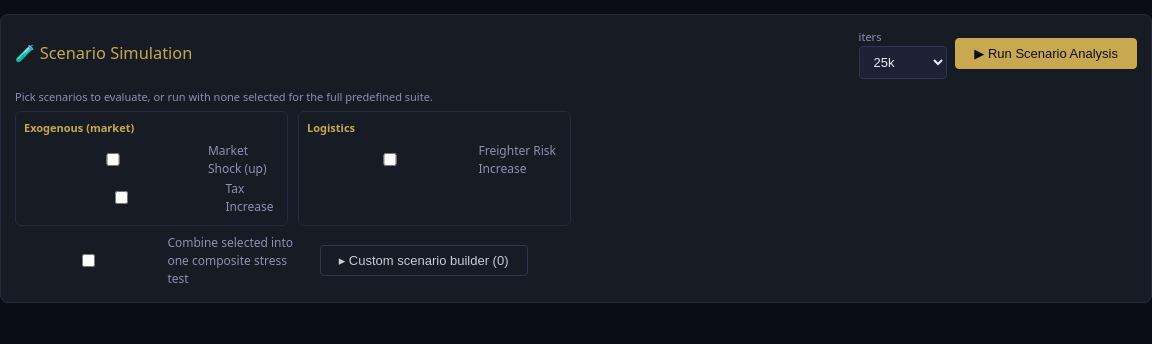
Test case: ScenarioPanel › surfaces a backend scenario error
Expected: the text "Market Shock (up)" is shown, [24,140,279,178]
What coordinates should you click on to do the following:
click the button "▶ Run Scenario Analysis"
I would click on:
 (1046, 54)
Its box is [955,38,1137,69].
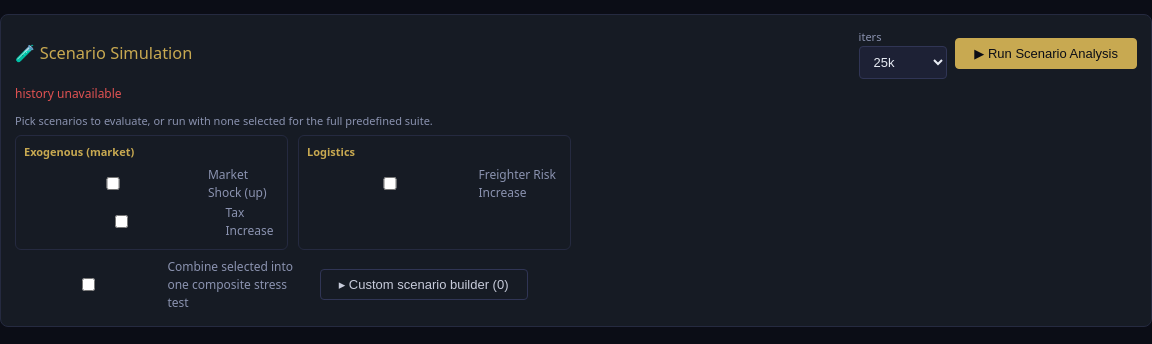
Result: the text "history unavailable" is shown at [15,84,122,102]
